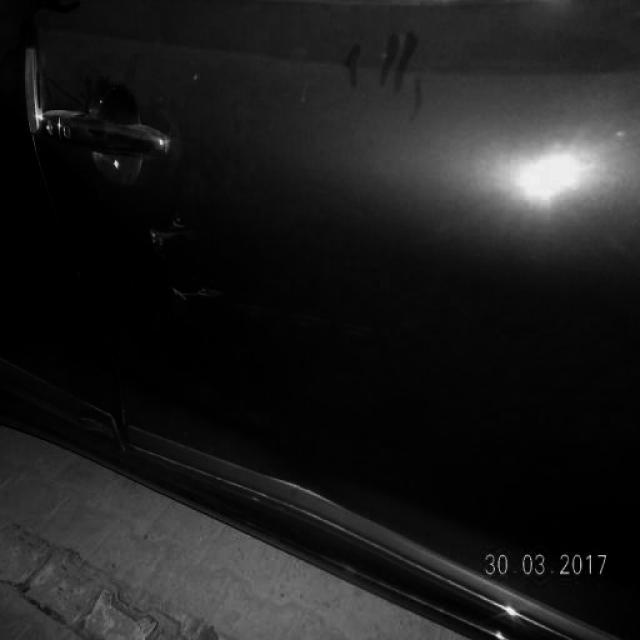car damage: (169, 268, 224, 310), (150, 219, 191, 249)
